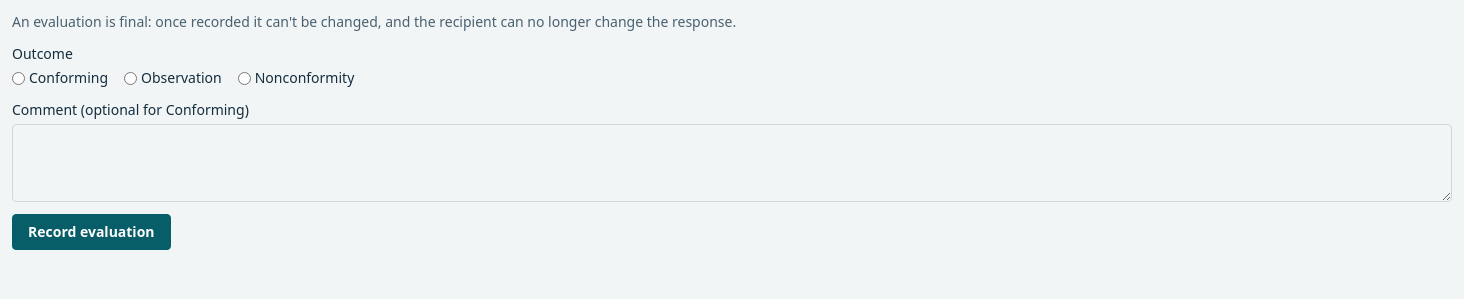
Test: CheckUpEvaluationForm (#156) › shows the server's refusal and does not refresh
Click the radio button labelled "Conforming": (18, 78) [12,72,25,84]
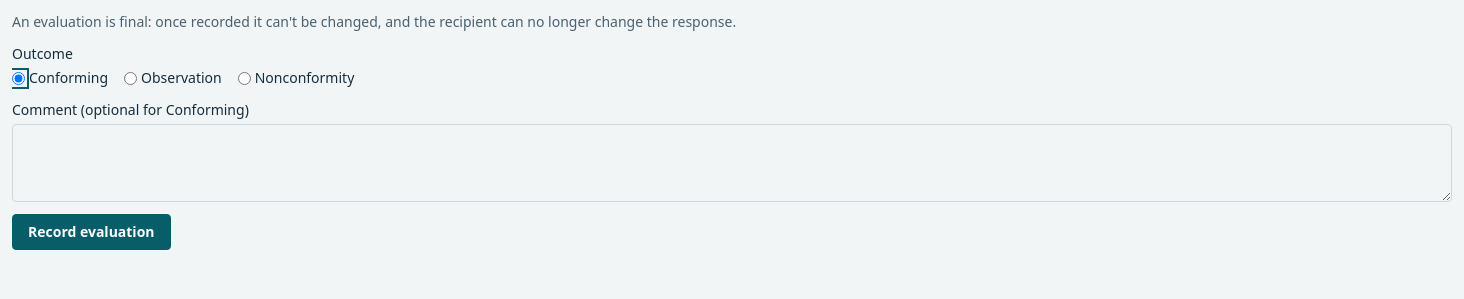
Click the button "Record evaluation": (91, 232) [12,214,170,250]
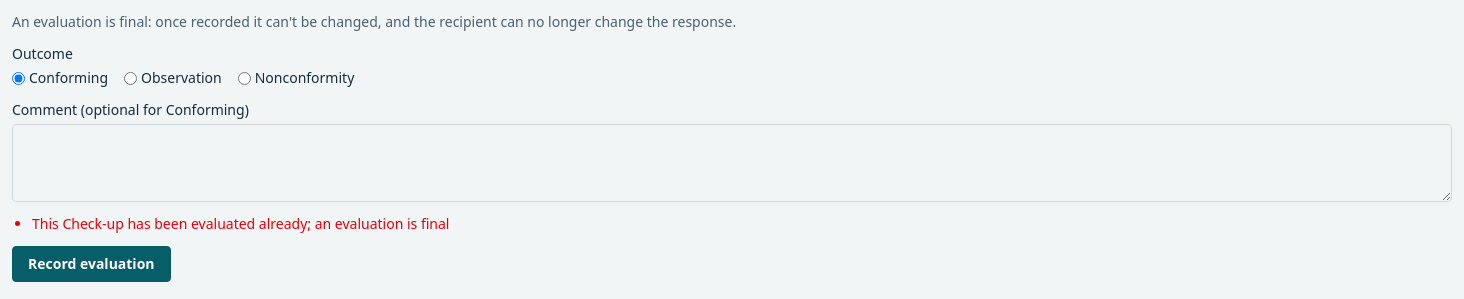
Check: the message shows "final", box [32,214,450,233]
